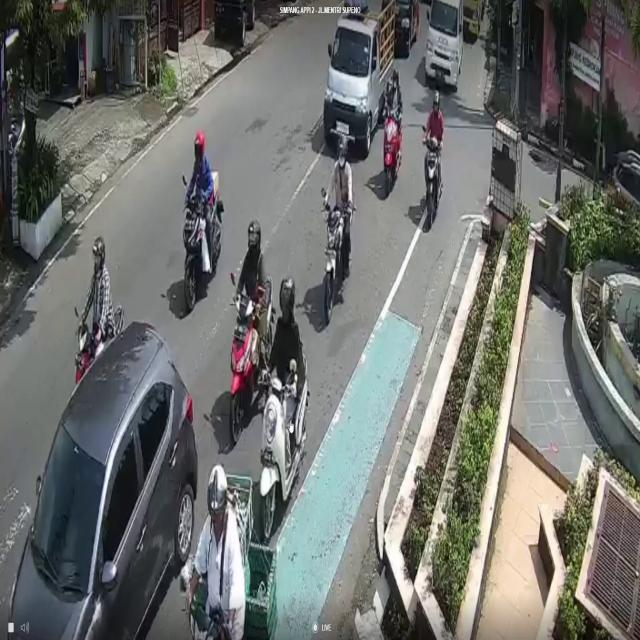bus: (262, 352, 308, 528), (232, 276, 274, 444), (183, 168, 222, 305), (323, 205, 342, 318), (424, 138, 442, 230), (383, 114, 402, 194)
motorcycle: (9, 322, 201, 640), (324, 17, 394, 151), (427, 0, 462, 91), (380, 0, 418, 52)
